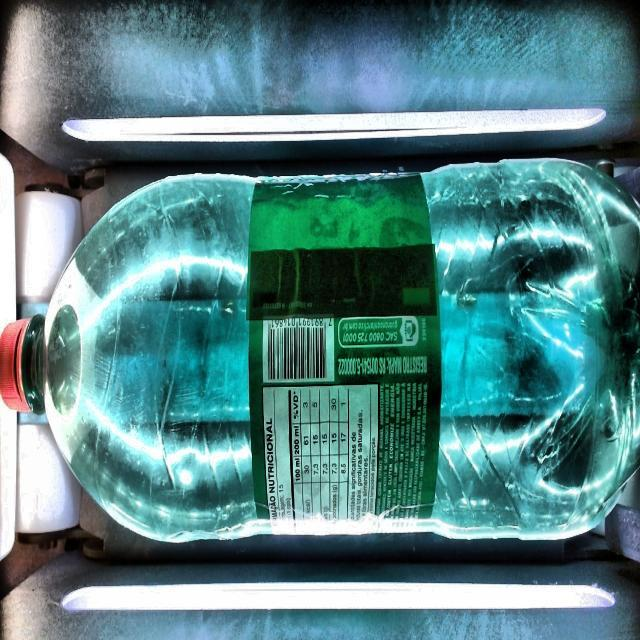bottom: (424, 159, 640, 538)
cap: (0, 318, 30, 411)
code: (262, 317, 337, 385)
label: (248, 173, 441, 522)
neck: (2, 174, 254, 545)
